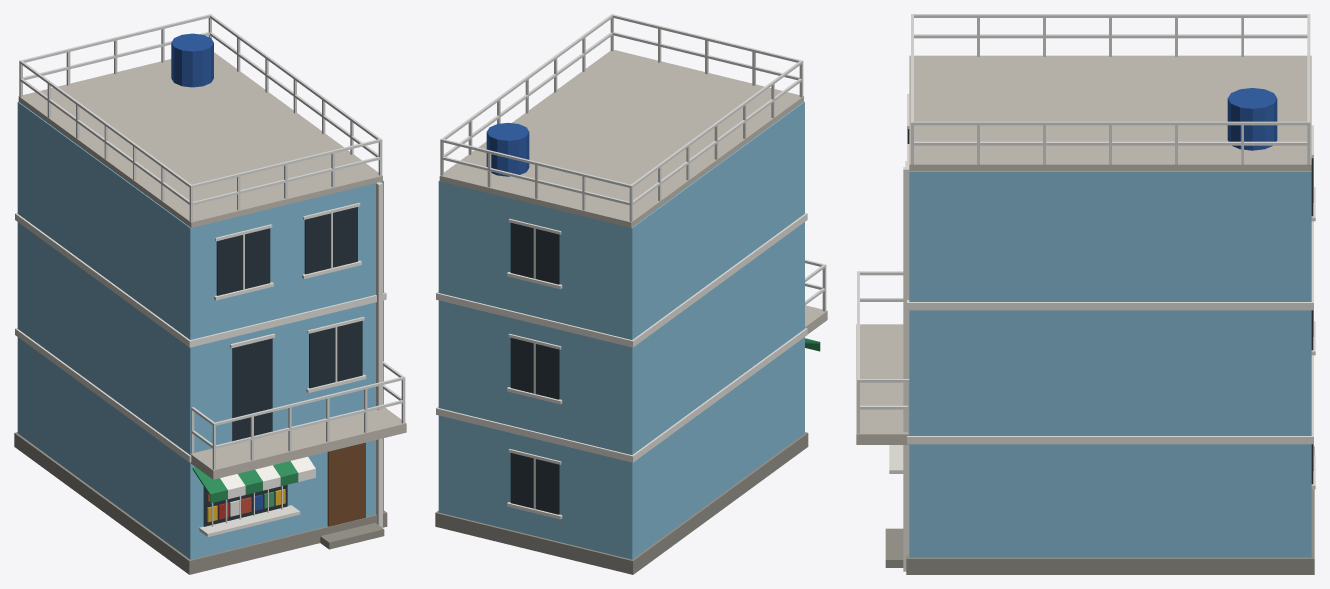
The model's file is BAY_F_ThreeStorey_C.glb.
3 renders of one model, left to right at view 1: azimuth 30°, elevation 25°; view 2: azimuth 150°, elevation 25°; view 3: azimuth 270°, elevation 25°, orthographic. The views are drawn at different scales.
Parts seen in each view (by area): view 1: BAY_F_ThreeStorey_C; view 2: BAY_F_ThreeStorey_C; view 3: BAY_F_ThreeStorey_C.
Part boxes in pixels (box(x1,y1,x2,y2)): BAY_F_ThreeStorey_C: box(14, 14, 406, 574); BAY_F_ThreeStorey_C: box(435, 14, 827, 574); BAY_F_ThreeStorey_C: box(856, 14, 1315, 574).
Size of the model in its own units: 4.5 by 8.4 by 7.77.
1 material, 1 textured.
